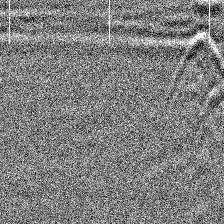Utility: (170, 26, 224, 104)
